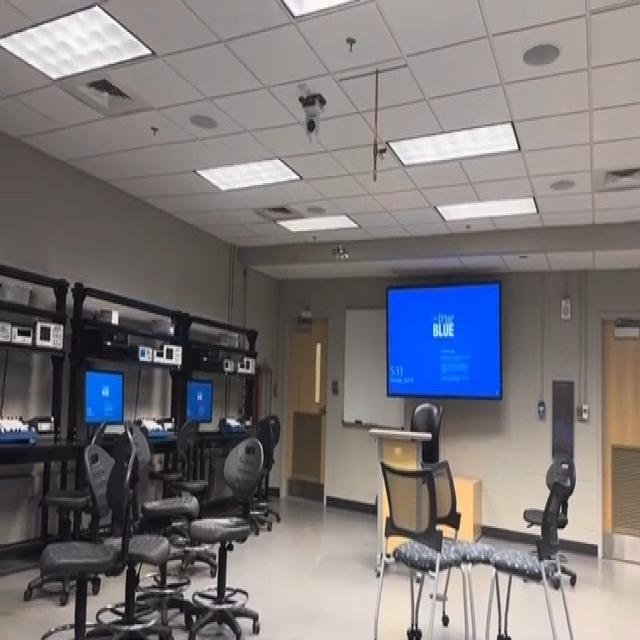drone: (325, 229, 359, 278)
